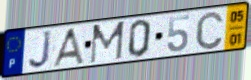0: (126, 17, 153, 59)
5: (166, 13, 191, 53)
A: (50, 27, 86, 69)
C: (194, 9, 225, 51)
J: (27, 29, 53, 71)
M: (88, 19, 126, 66)
